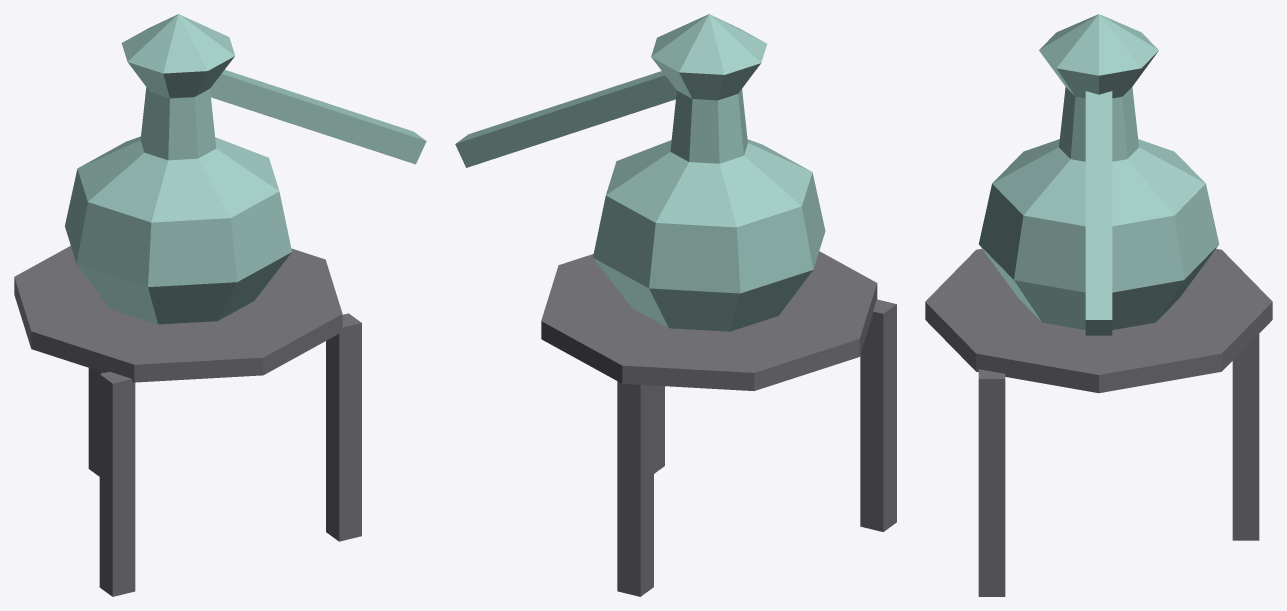
File: prop-alembic-simple.fbx
3 renders of one model, left to right at view 1: azimuth 30°, elevation 25°; view 2: azimuth 150°, elevation 25°; view 3: azimuth 270°, elevation 25°, orthographic. The views are drawn at different scales.
Parts seen in each view (by area): view 1: prop-alembic-simple; view 2: prop-alembic-simple; view 3: prop-alembic-simple.
Boxes of the visible parts, x1,y1,x2,y2 form: prop-alembic-simple: (14, 14, 426, 596); prop-alembic-simple: (455, 14, 896, 596); prop-alembic-simple: (925, 14, 1272, 596).
Size of the model in its own units: 34.35 by 43 by 26.
